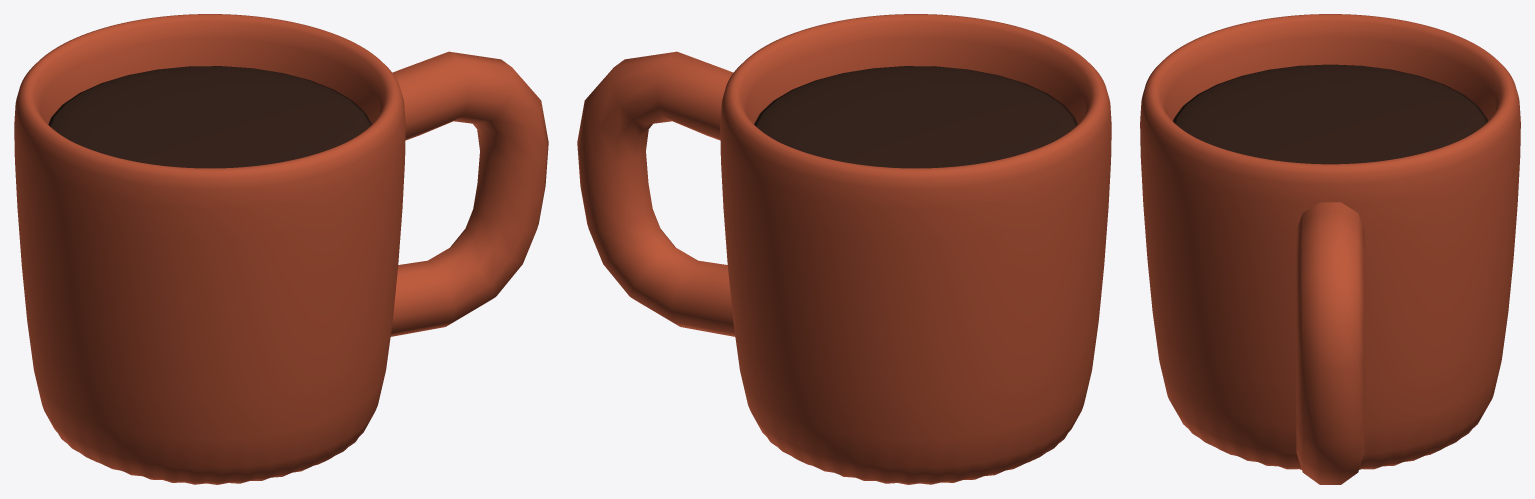
File: mug.glb
The picture shows the model from 3 angles, left to right: view 1: azimuth 30°, elevation 25°; view 2: azimuth 150°, elevation 25°; view 3: azimuth 270°, elevation 25°; orthographic projection. The views are drawn at different scales.
Visible parts, largest first — view 1: Mug body, Mug handle, Coffee surface; view 2: Mug body, Mug handle, Coffee surface; view 3: Mug body, Coffee surface, Mug handle.
Part boxes in pixels (box(x1,y1,x2,y2)): Mug body: box(14, 14, 405, 484); Mug handle: box(390, 51, 548, 336); Coffee surface: box(48, 66, 371, 168); Mug body: box(720, 14, 1111, 484); Mug handle: box(577, 51, 735, 336); Coffee surface: box(754, 66, 1077, 168); Mug body: box(1140, 14, 1520, 469); Coffee surface: box(1173, 64, 1487, 164); Mug handle: box(1296, 202, 1364, 484).
Size of the model in its own units: 0.3635 by 0.235 by 0.2451.
